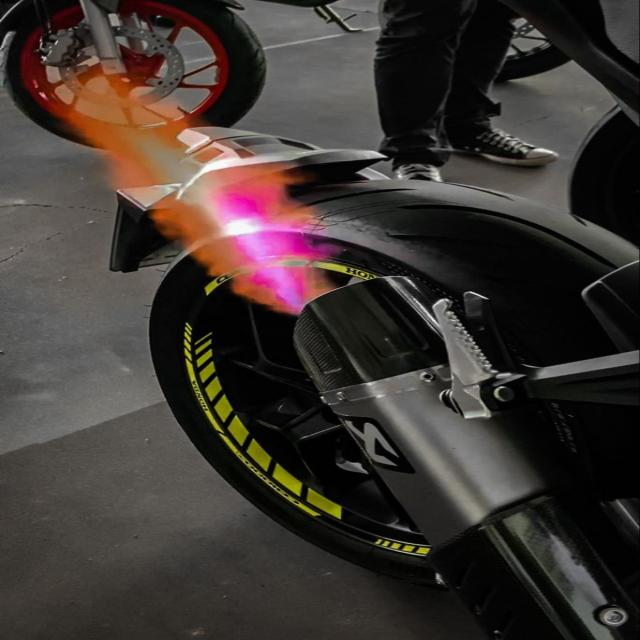fire: (61, 71, 335, 313)
